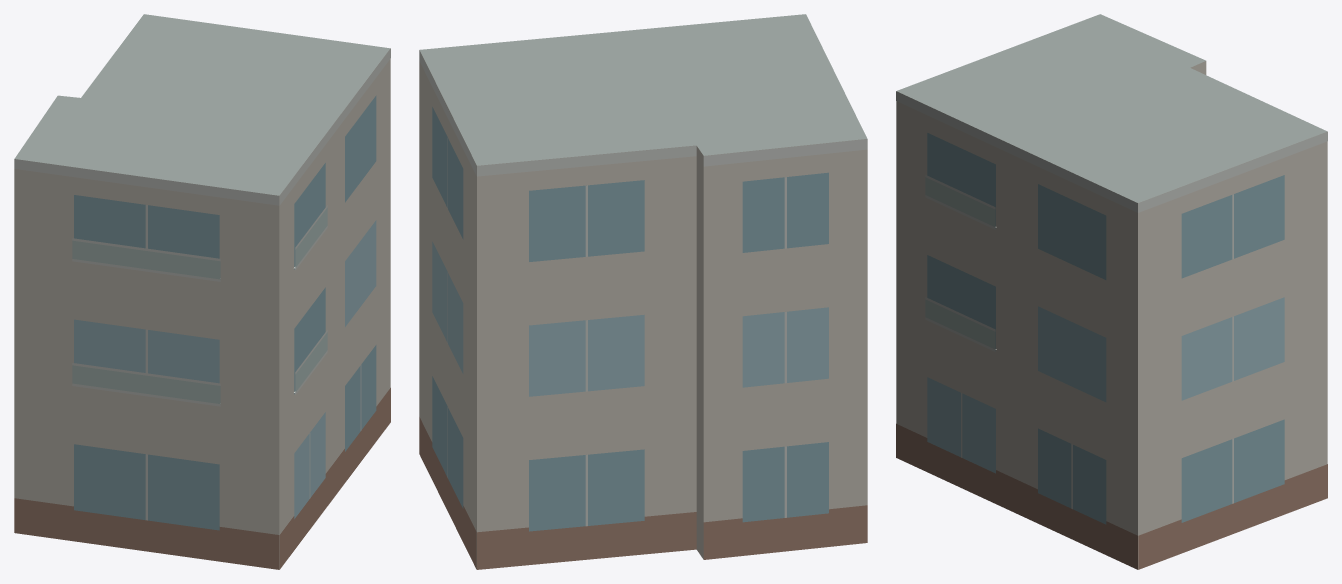
File: survey-upis-32717504.glb
3 views of the same model, side by side, from view 1: azimuth 30°, elevation 25°; view 2: azimuth 150°, elevation 25°; view 3: azimuth 270°, elevation 25° (orthographic). The views are drawn at different scales.
Parts seen in each view (by area): view 1: survey-upis-32717504.tmp; view 2: survey-upis-32717504.tmp; view 3: survey-upis-32717504.tmp.
Part boxes in pixels (bbox=[...]): survey-upis-32717504.tmp: bbox=[14, 14, 390, 569]; survey-upis-32717504.tmp: bbox=[419, 14, 867, 569]; survey-upis-32717504.tmp: bbox=[896, 14, 1327, 569].
Size of the model in its own units: 10.13 by 9.15 by 9.77.
